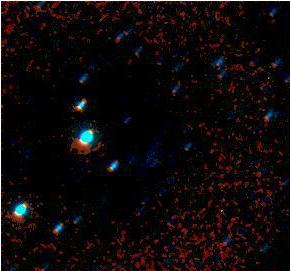star: (227, 221, 257, 251)
